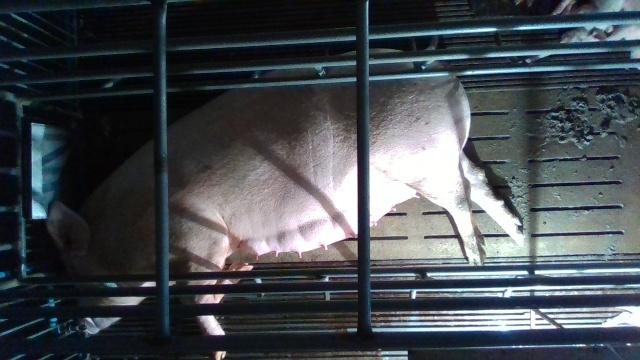sow-sleep-lactate: (46, 52, 526, 360)
